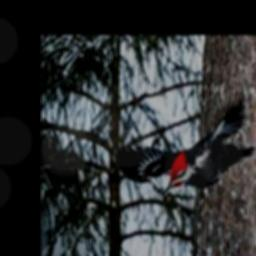Woodpecker: (112, 90, 253, 194)
